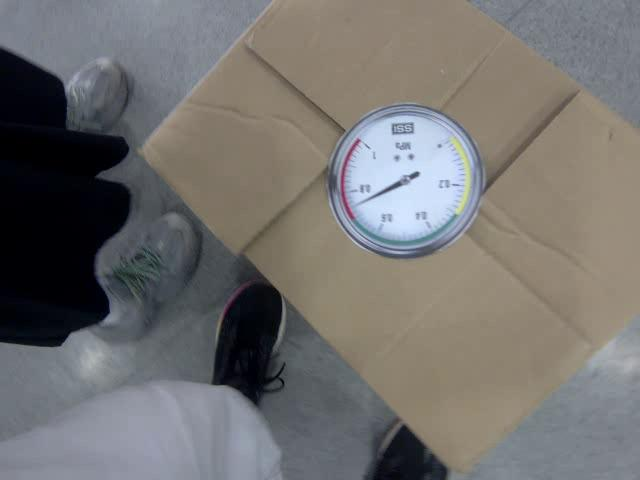Dashboard: (326, 102, 484, 261)
ssi: (389, 122, 414, 135)
